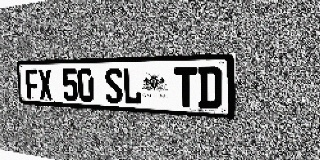0: (77, 68, 94, 102)
5: (62, 68, 78, 102)
D: (198, 66, 222, 109)
F: (25, 69, 40, 99)
L: (122, 68, 142, 105)
S: (104, 68, 123, 104)
T: (174, 67, 197, 108)
X: (38, 69, 53, 100)
